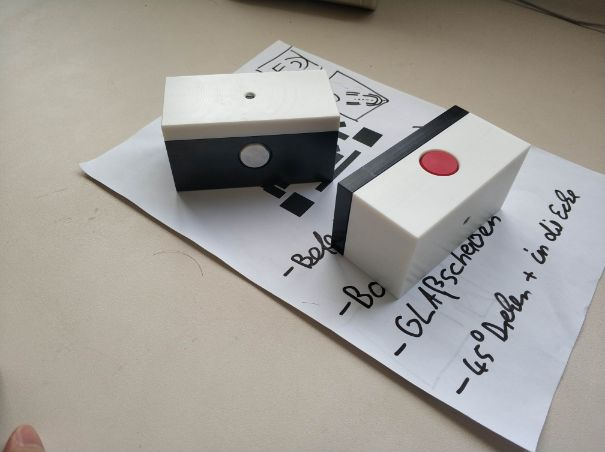black+white+red: (329, 104, 533, 301)
white+black+silver: (160, 68, 343, 195)
